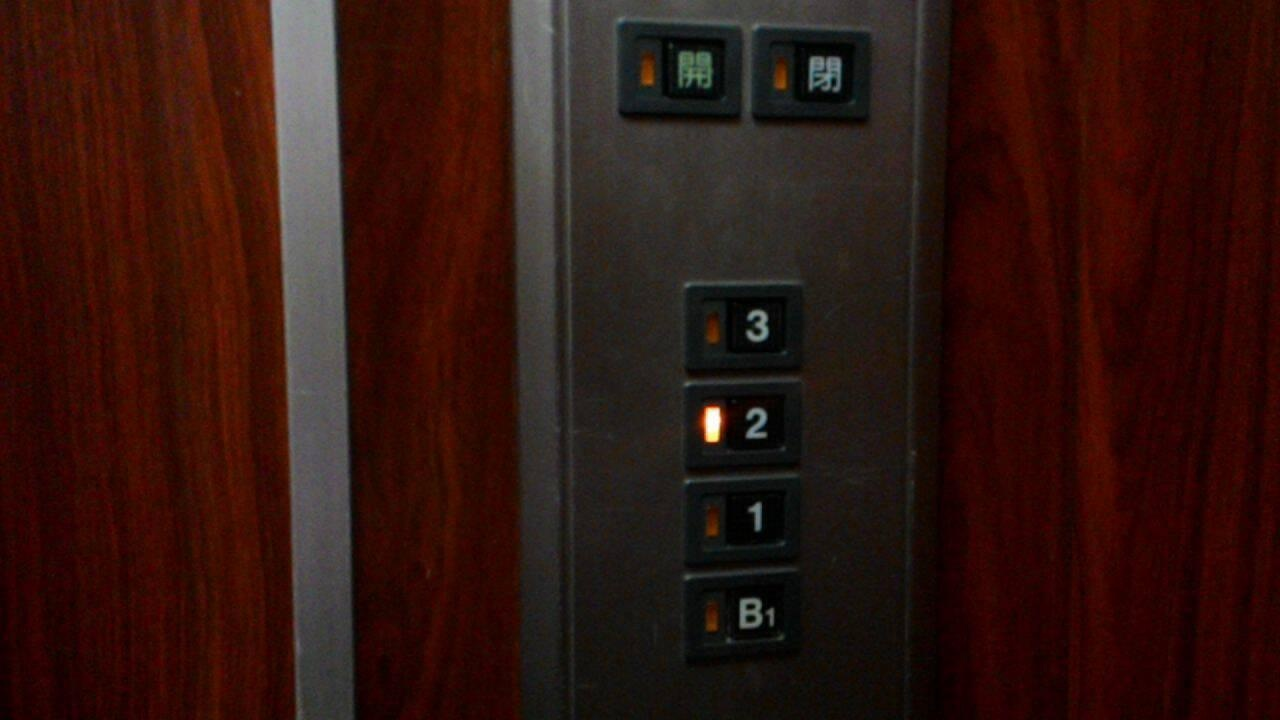1: (683, 474, 805, 573)
2: (677, 376, 807, 475)
3: (681, 275, 806, 375)
B1: (676, 563, 806, 665)
text: (741, 18, 877, 124), (618, 17, 747, 123)
